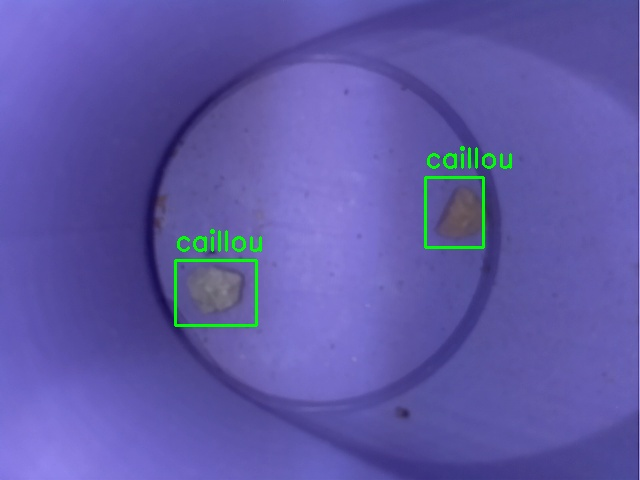caillou: (175, 260, 256, 325), (425, 177, 483, 247)
